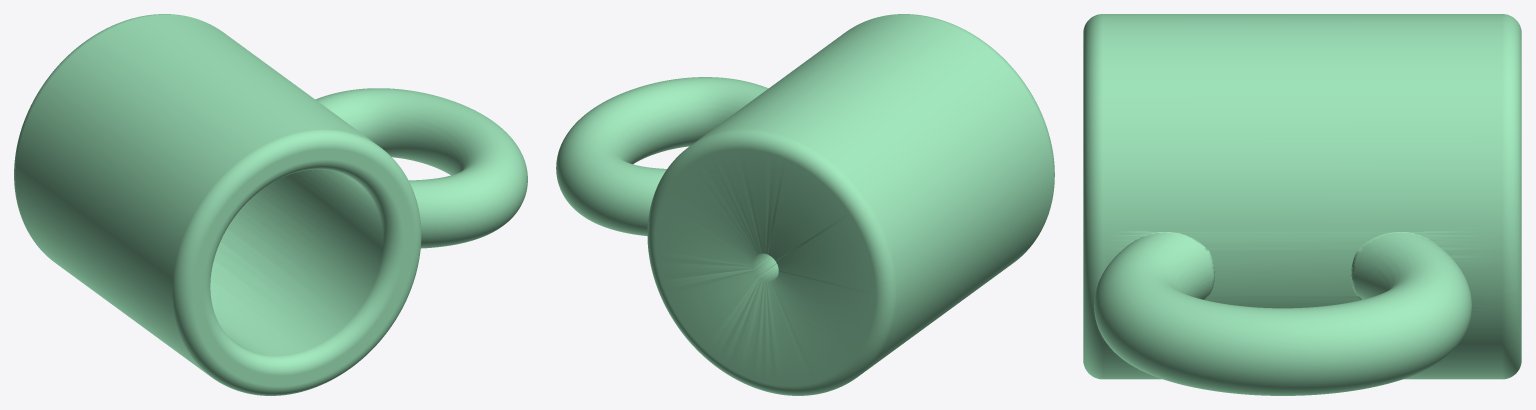
The model's file is rig_mug.glb.
The picture shows the model from 3 angles, left to right: view 1: azimuth 30°, elevation 25°; view 2: azimuth 150°, elevation 25°; view 3: azimuth 270°, elevation 25°; orthographic projection. The views are drawn at different scales.
Parts seen in each view (by area): view 1: rig_mug; view 2: rig_mug; view 3: rig_mug.
Part boxes in pixels (x1,y1,x2,y2): rig_mug: (14, 14, 527, 395); rig_mug: (556, 14, 1054, 395); rig_mug: (1083, 14, 1521, 395).
Size of the model in its own units: 122 by 75 by 90.
